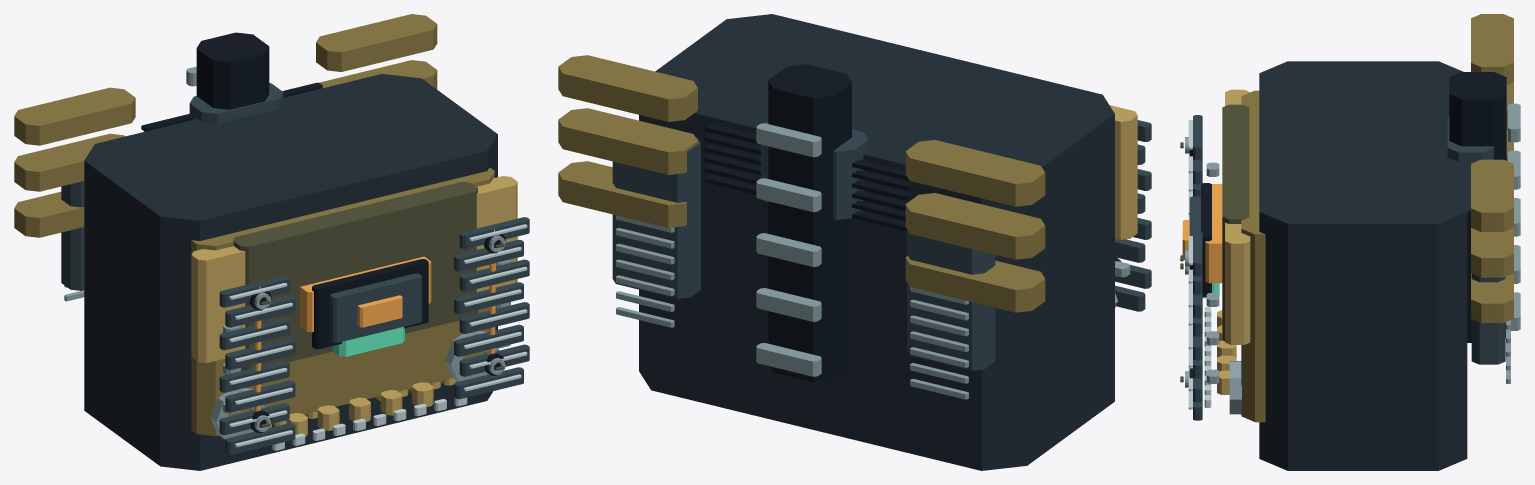
File: enemy_gunner_4k_body.obj
3 renders of one model, left to right at view 1: azimuth 30°, elevation 25°; view 2: azimuth 150°, elevation 25°; view 3: azimuth 270°, elevation 25°, orthographic. The views are drawn at different scales.
Bounding box in the file's own units: 1.31 × 0.975 × 0.948.
